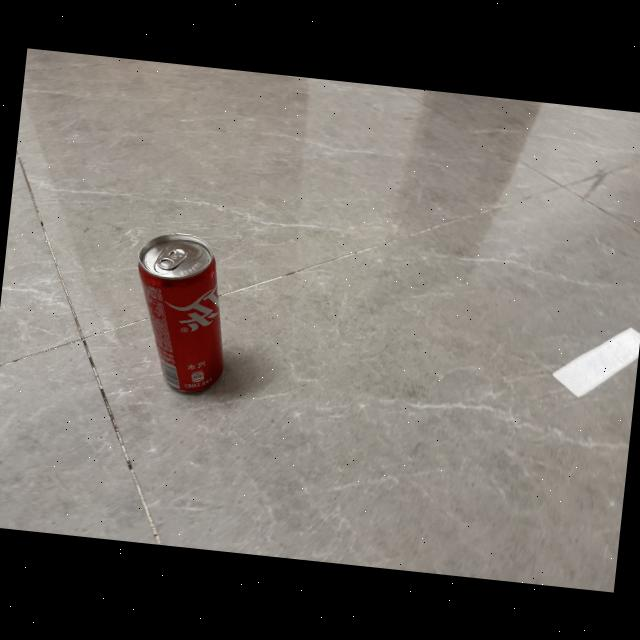Cola: (120, 228, 242, 404)
